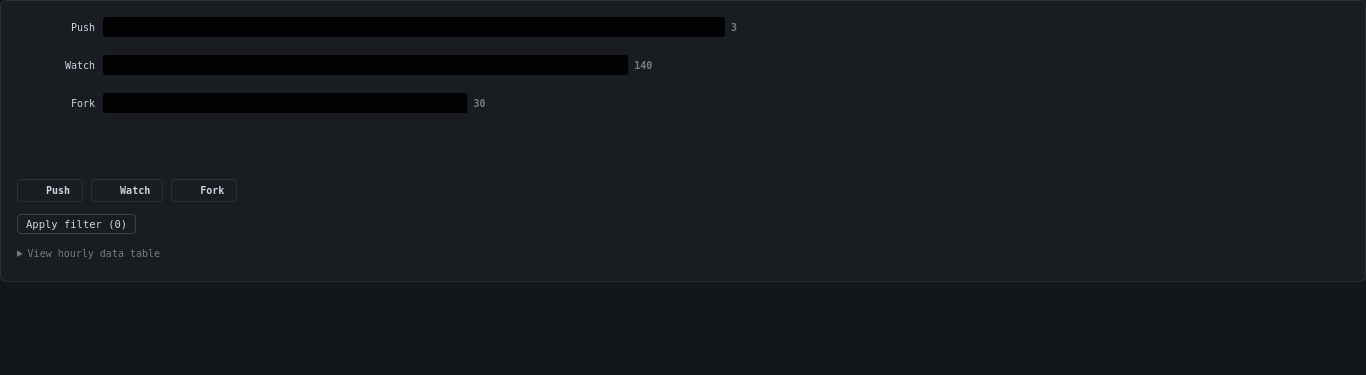
Test: EventTypeExplorer › shows accessible data table on request
Click the heading "View hourly data table" at (94, 253), box [28, 248, 160, 259]
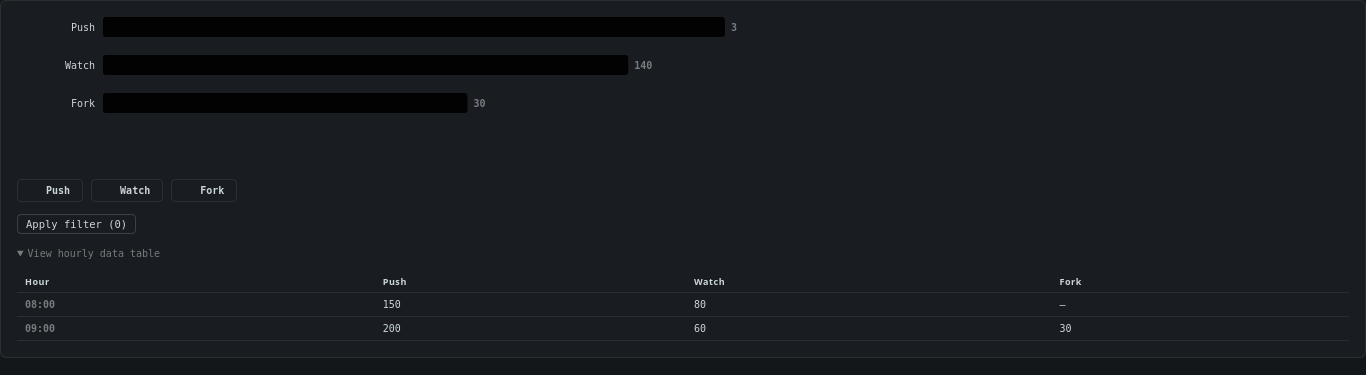
Expected: the table is shown, [17, 271, 1349, 341]
Expected: the text "08:00" is shown, [17, 293, 375, 317]
Expected: the text "09:00" is shown, [17, 317, 375, 341]
